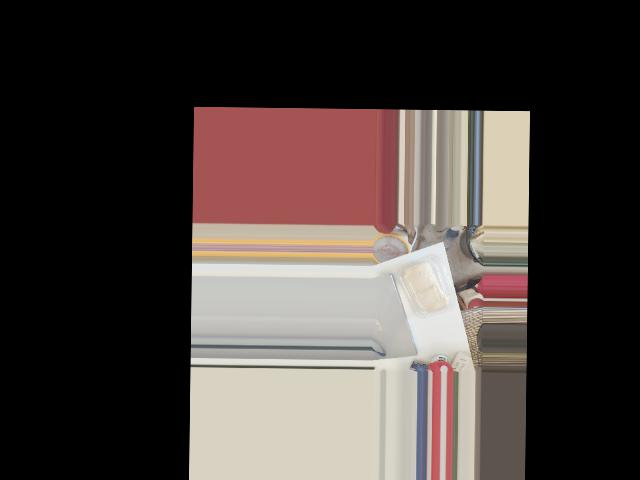cheese: (396, 249, 455, 321)
